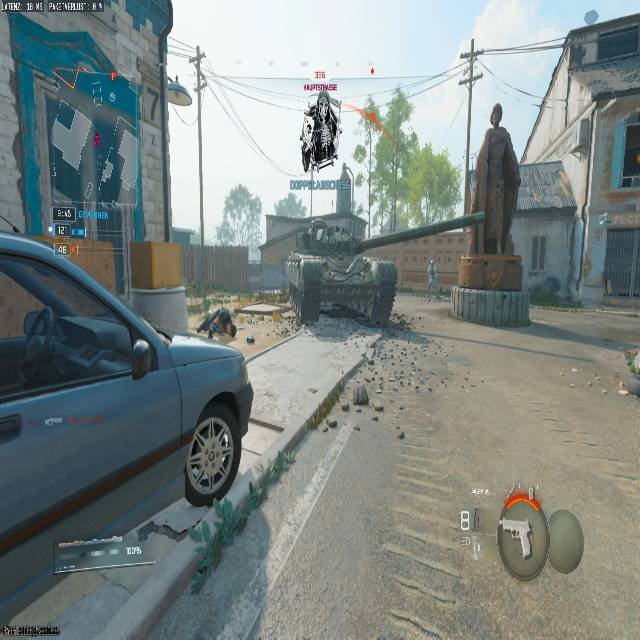player: (303, 93, 340, 169), (194, 305, 240, 344)
